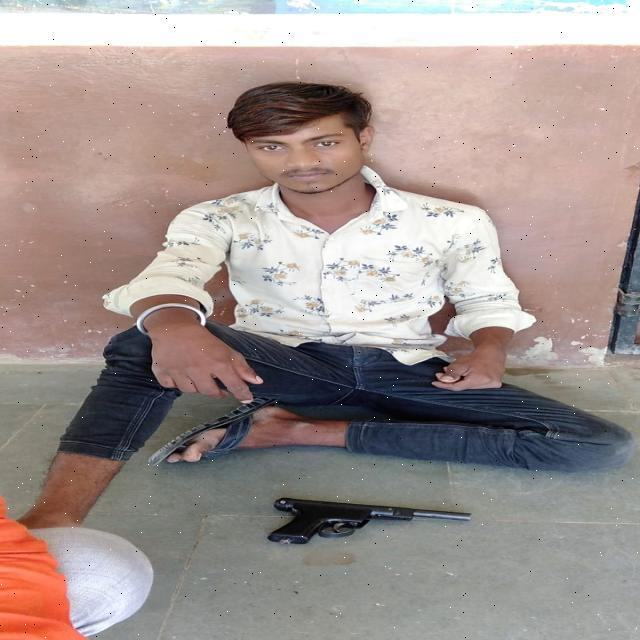gun: (260, 497, 480, 550)
